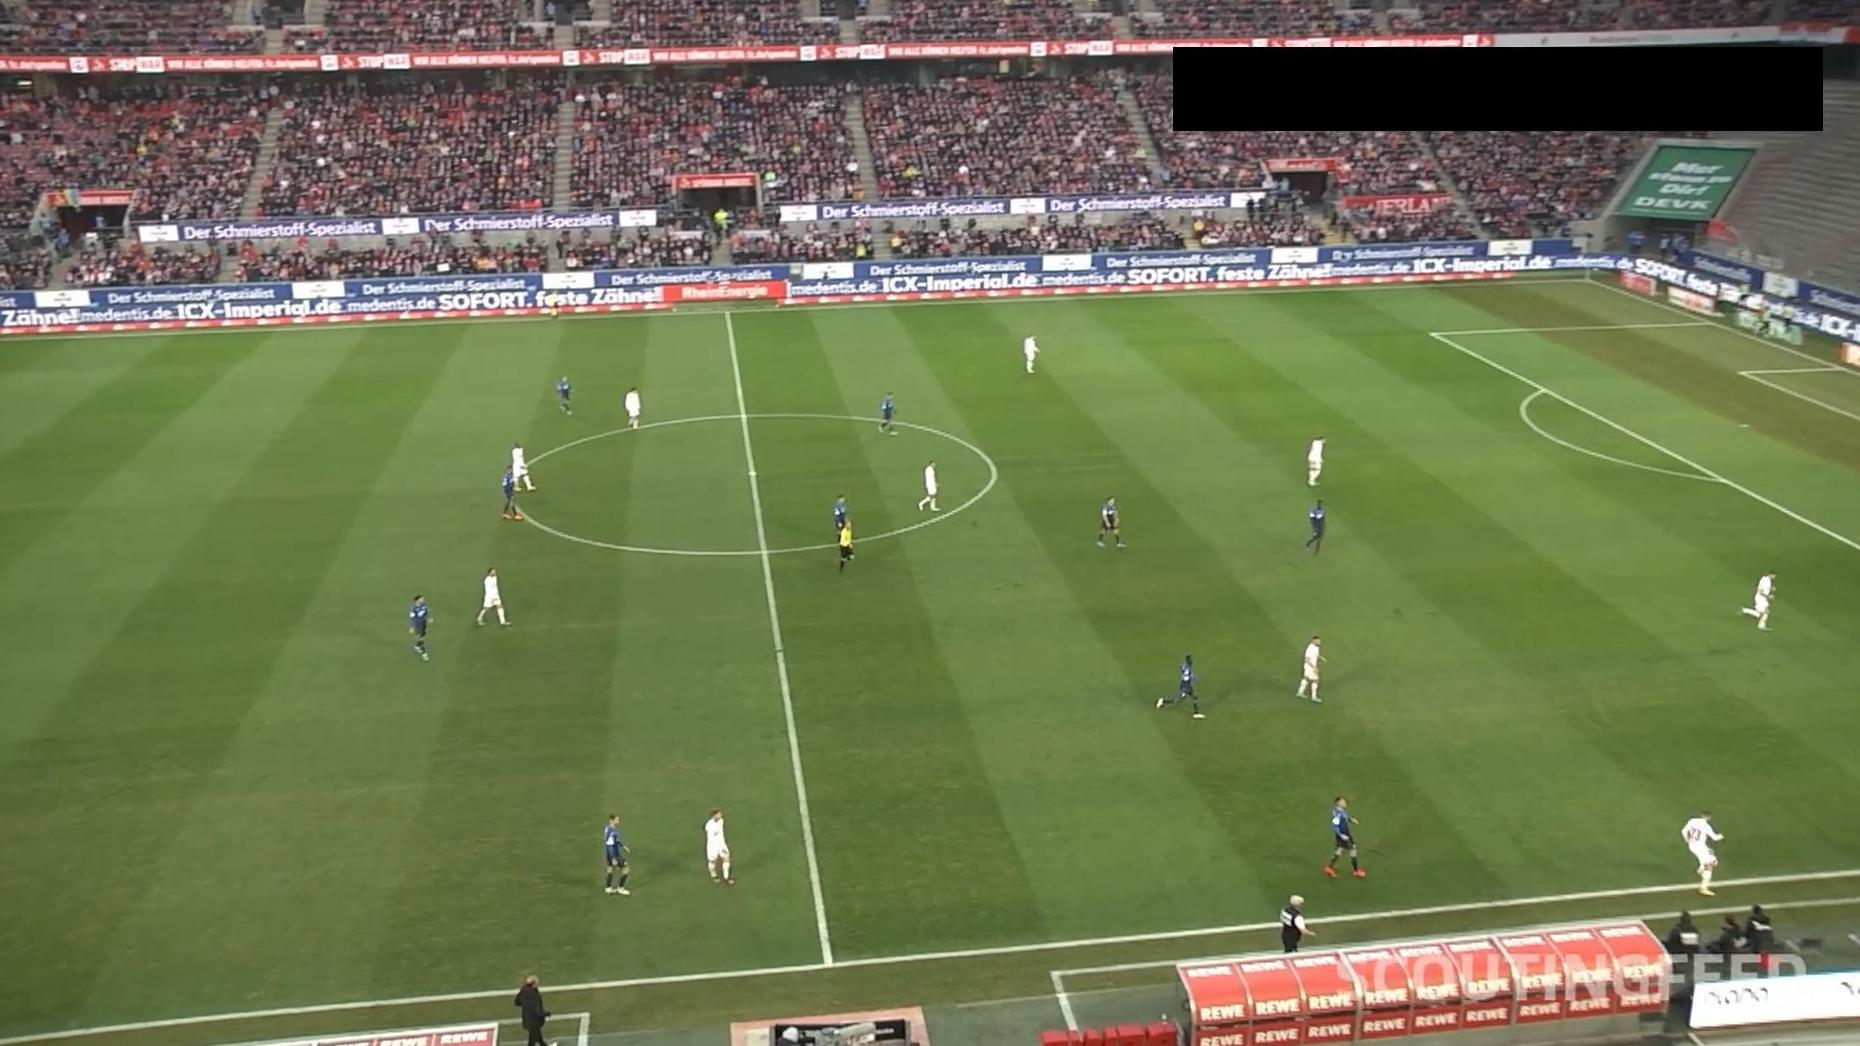ball: (1706, 854, 1720, 869)
